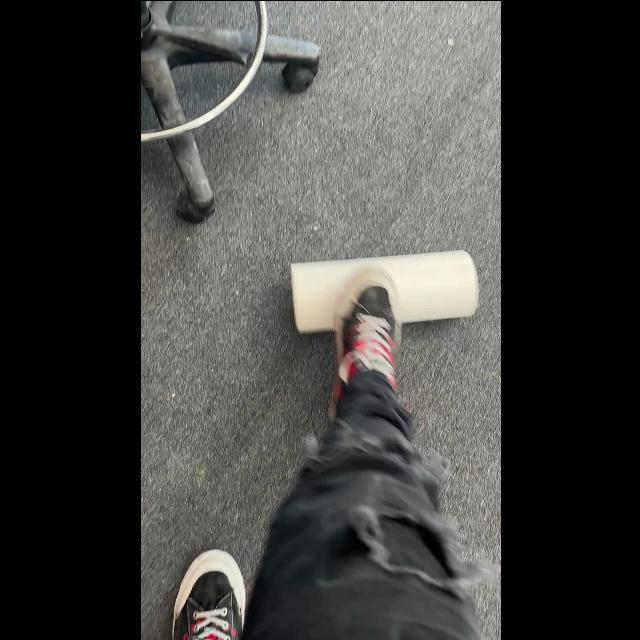CORAL: (288, 248, 478, 334)
